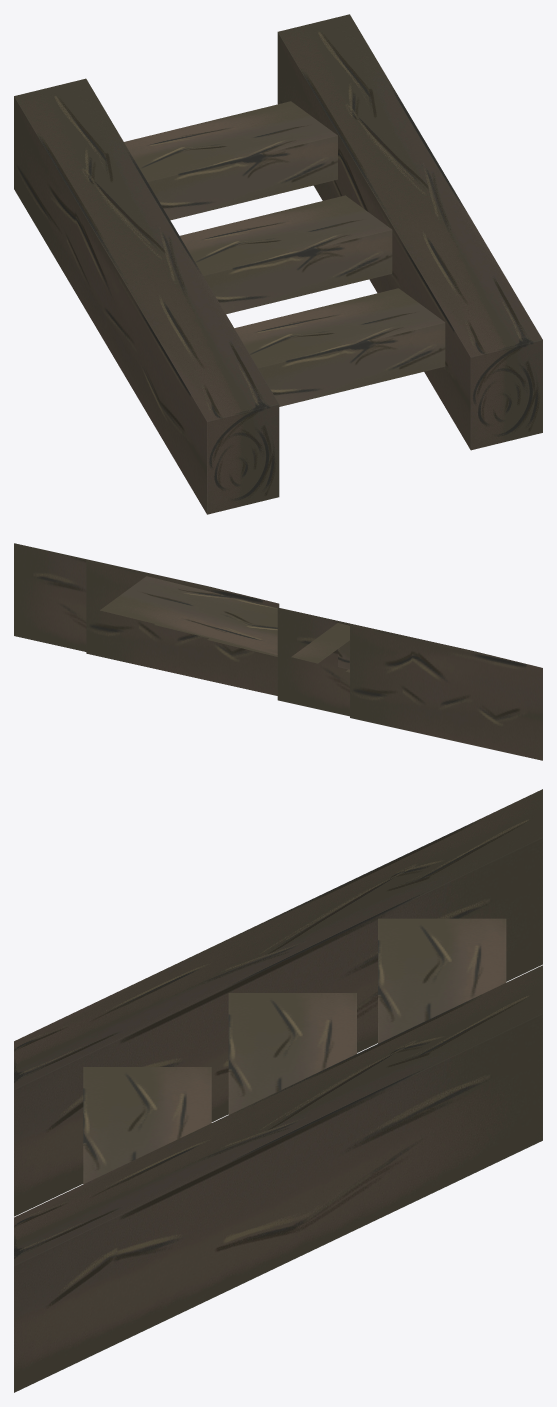
Rendered from polysurface580_txt_esca_0_lev1_lev2.glb.
The picture shows the model from 3 angles, top to bottom: view 1: azimuth 30°, elevation 25°; view 2: azimuth 150°, elevation 25°; view 3: azimuth 270°, elevation 25°; orthographic projection. The views are drawn at different scales.
Visible parts, largest first — view 1: polysurface580_txt_esca_0_lev1_lev2; view 2: polysurface580_txt_esca_0_lev1_lev2; view 3: polysurface580_txt_esca_0_lev1_lev2.
Boxes of the visible parts, <box> form: polysurface580_txt_esca_0_lev1_lev2: <box>14,14,542,514</box>; polysurface580_txt_esca_0_lev1_lev2: <box>14,543,542,760</box>; polysurface580_txt_esca_0_lev1_lev2: <box>14,789,542,1392</box>.
Size of the model in its own units: 1.47 by 1.16 by 1.46.
1 material, 1 textured.
